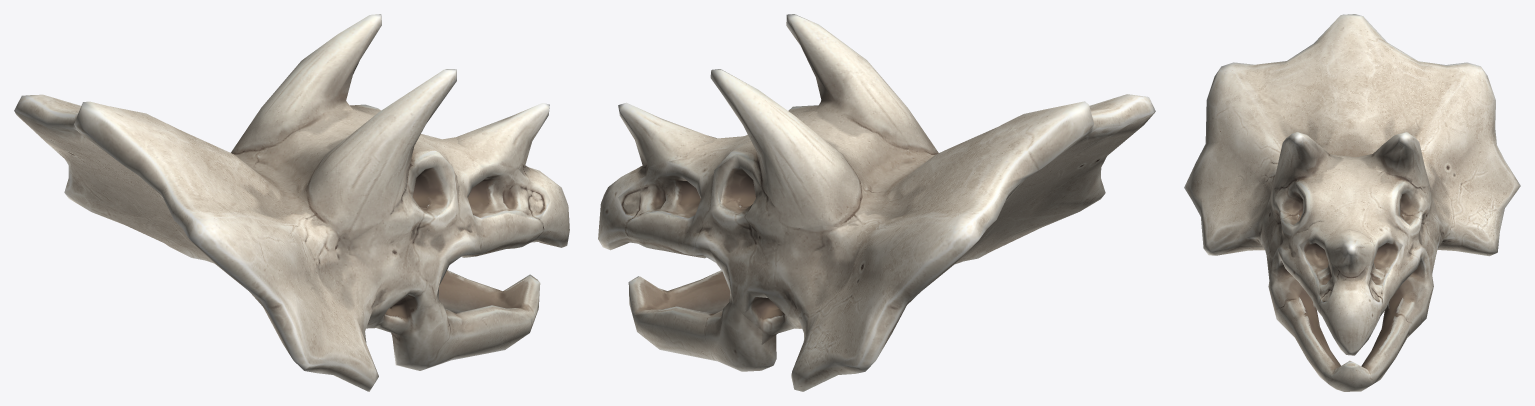
File: SM_Fossil_1.fbx
3 views of the same model, side by side, from view 1: azimuth 30°, elevation 25°; view 2: azimuth 150°, elevation 25°; view 3: azimuth 270°, elevation 25° (orthographic). The views are drawn at different scales.
Visible parts, largest first — view 1: SM_Fossil_1; view 2: SM_Fossil_1; view 3: SM_Fossil_1.
Part boxes in pixels (<box>): SM_Fossil_1: <box>14,14,569,391</box>; SM_Fossil_1: <box>598,14,1155,391</box>; SM_Fossil_1: <box>1184,14,1520,391</box>.
Bounding box in the file's own units: 1.07 × 0.6847 × 0.9046.
